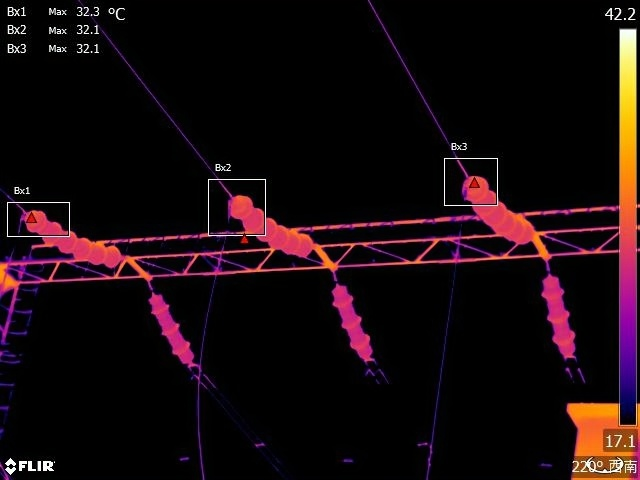insulator: (26, 201, 123, 271), (455, 158, 531, 246), (231, 195, 319, 260), (139, 286, 197, 369), (536, 270, 577, 365), (332, 280, 374, 364)
